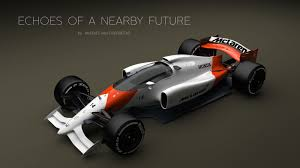FormulaOneCar: (43, 34, 269, 160)
